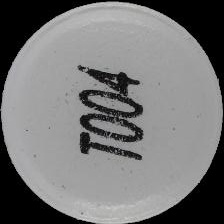42291-246: (0, 0, 224, 224)
